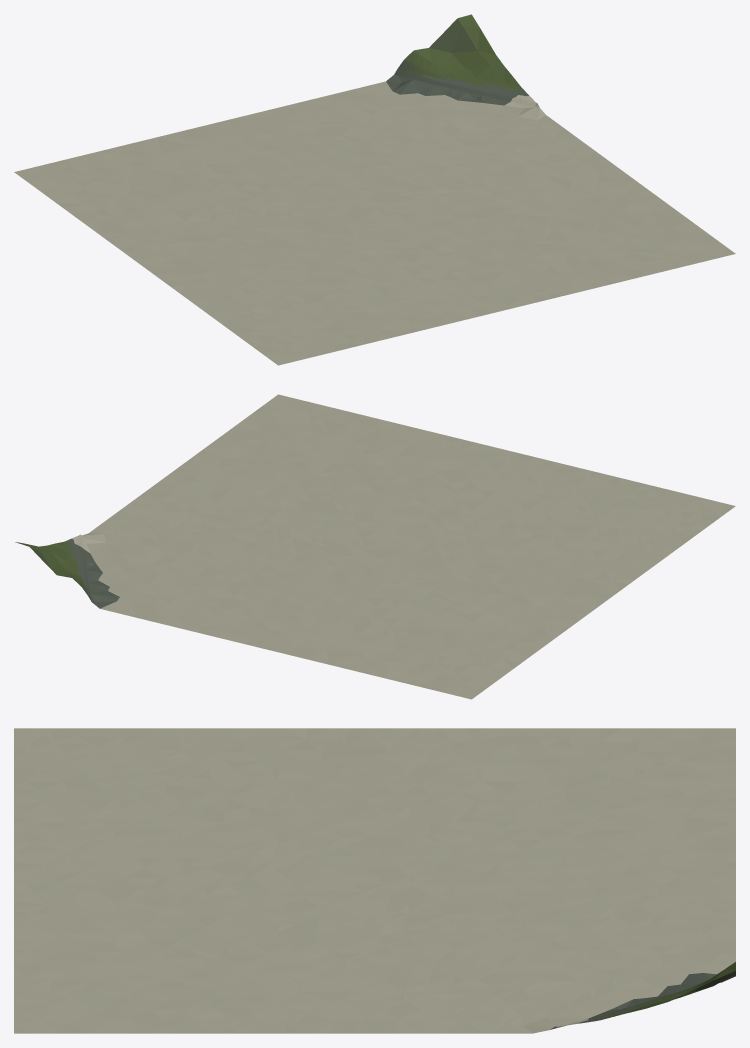
The model's file is Ground_-4_-3.glb.
3 renders of one model, top to bottom at view 1: azimuth 30°, elevation 25°; view 2: azimuth 150°, elevation 25°; view 3: azimuth 270°, elevation 25°, orthographic. The views are drawn at different scales.
Visible parts, largest first — view 1: Ground_-4_-3; view 2: Ground_-4_-3; view 3: Ground_-4_-3.
Part boxes in pixels (box(x1,y1,x2,y2)): Ground_-4_-3: box(14, 14, 735, 365); Ground_-4_-3: box(15, 394, 735, 699); Ground_-4_-3: box(14, 728, 735, 1033).
Size of the model in its own units: 768 by 73.85 by 768.
